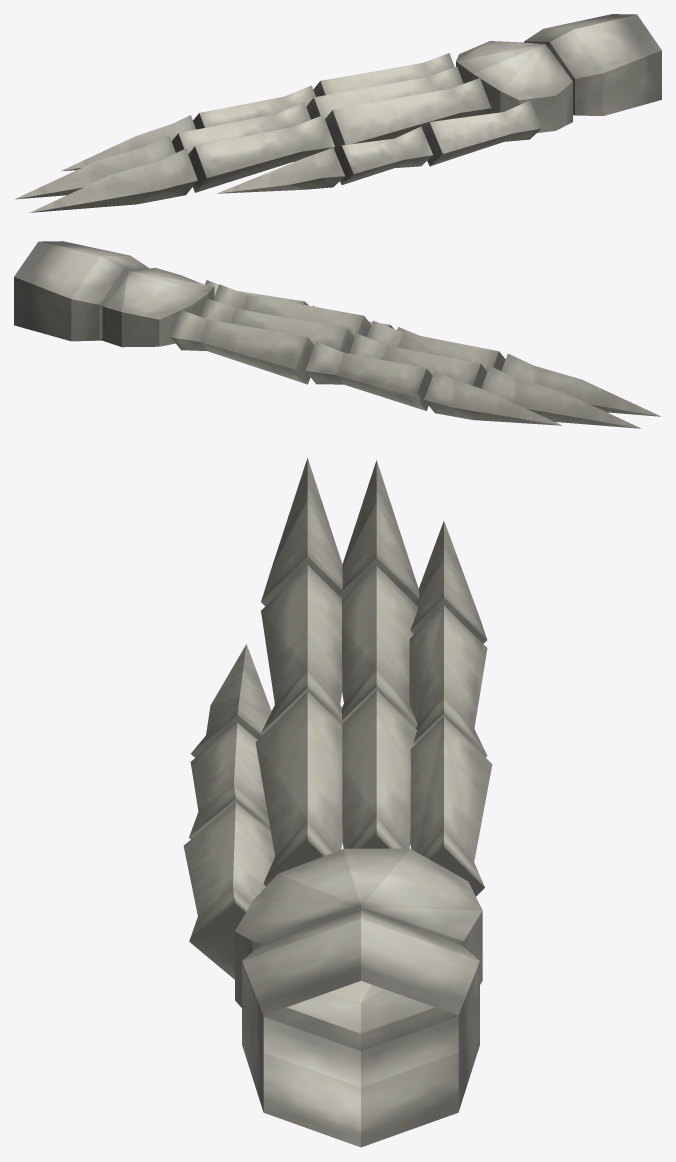
File: Jack_mano_der.obj
3 views of the same model, one above another, from view 1: azimuth 30°, elevation 25°; view 2: azimuth 150°, elevation 25°; view 3: azimuth 270°, elevation 25° (orthographic). The views are drawn at different scales.
Visible parts, largest first — view 1: rdmobj00.002_rdmobj00.004; view 2: rdmobj00.002_rdmobj00.004; view 3: rdmobj00.002_rdmobj00.004.
Boxes of the visible parts, box(x1,y1,x2,y2) form: rdmobj00.002_rdmobj00.004: box(15, 14, 661, 212); rdmobj00.002_rdmobj00.004: box(14, 241, 660, 428); rdmobj00.002_rdmobj00.004: box(183, 458, 492, 1147).
Size of the model in its own units: 0.3153 by 0.0417 by 0.0691.
1 material, 1 textured.
